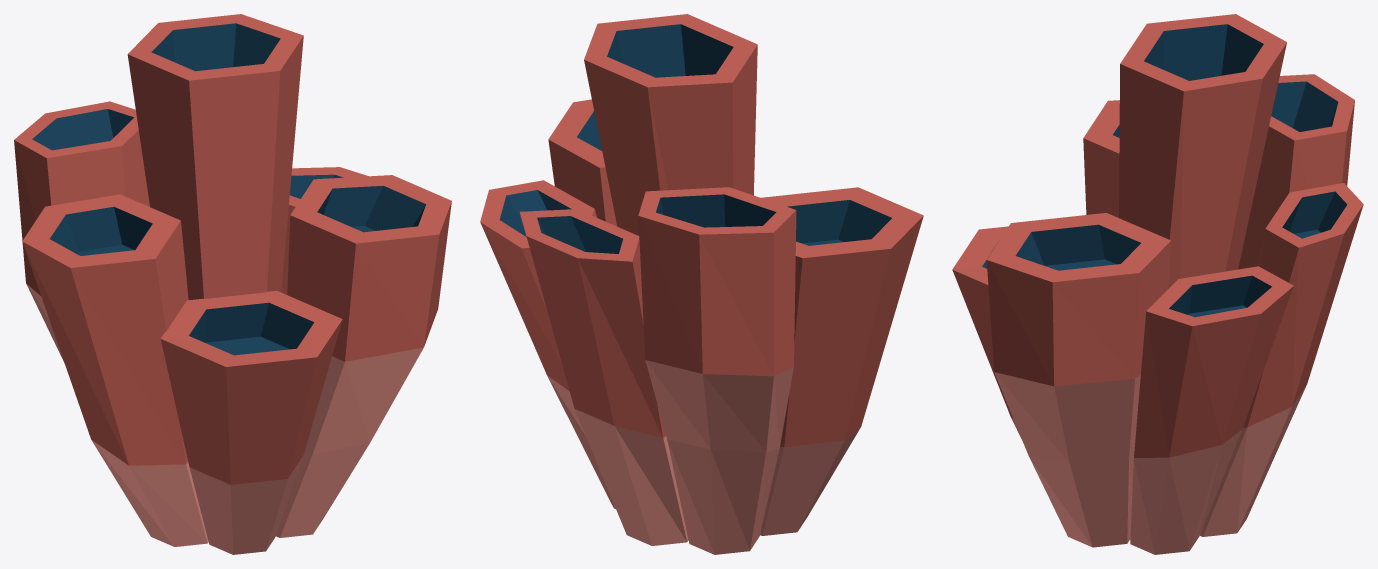
Rendered from more_houba.glb.
3 views of the same model, side by side, from view 1: azimuth 30°, elevation 25°; view 2: azimuth 150°, elevation 25°; view 3: azimuth 270°, elevation 25° (orthographic). The views are drawn at different scales.
Visible parts, largest first — view 1: more_houba; view 2: more_houba; view 3: more_houba.
Part boxes in pixels (box(x1,y1,x2,y2)): more_houba: box(14, 14, 451, 554); more_houba: box(480, 14, 923, 554); more_houba: box(952, 14, 1363, 554).
Size of the model in its own units: 0.9474 by 1.08 by 0.8569.
1 material, 1 textured.
